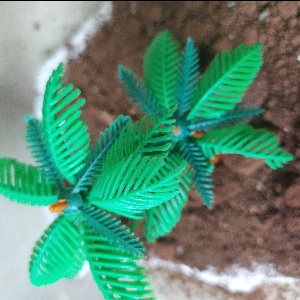plant: (4, 34, 300, 288)
